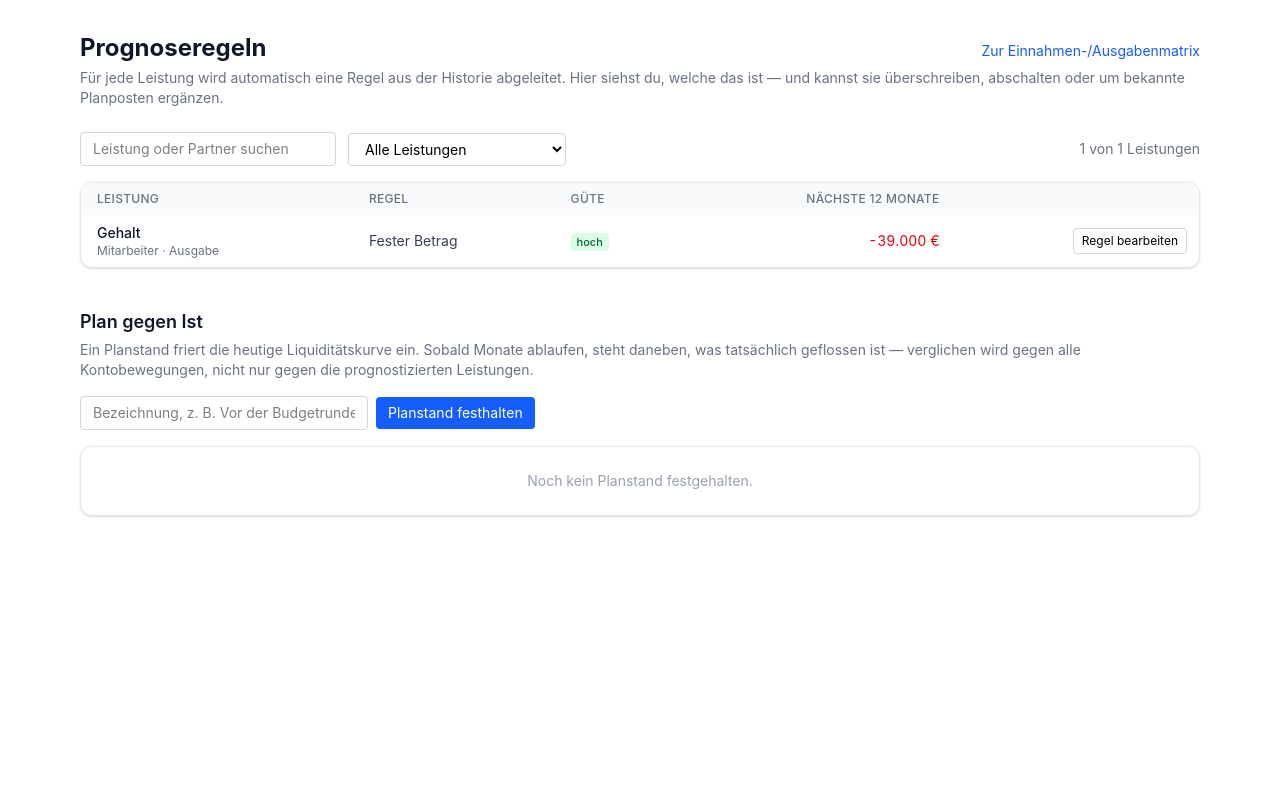
Test: ForecastPage – Rückvergleich im Editor › erklaert eine als beendet erkannte Leistung
The width and height of the screenshot is (1280, 798).
Click the button "Regel bearbeiten". click: coordinates (1130, 241)
box: [1073,228,1187,254]
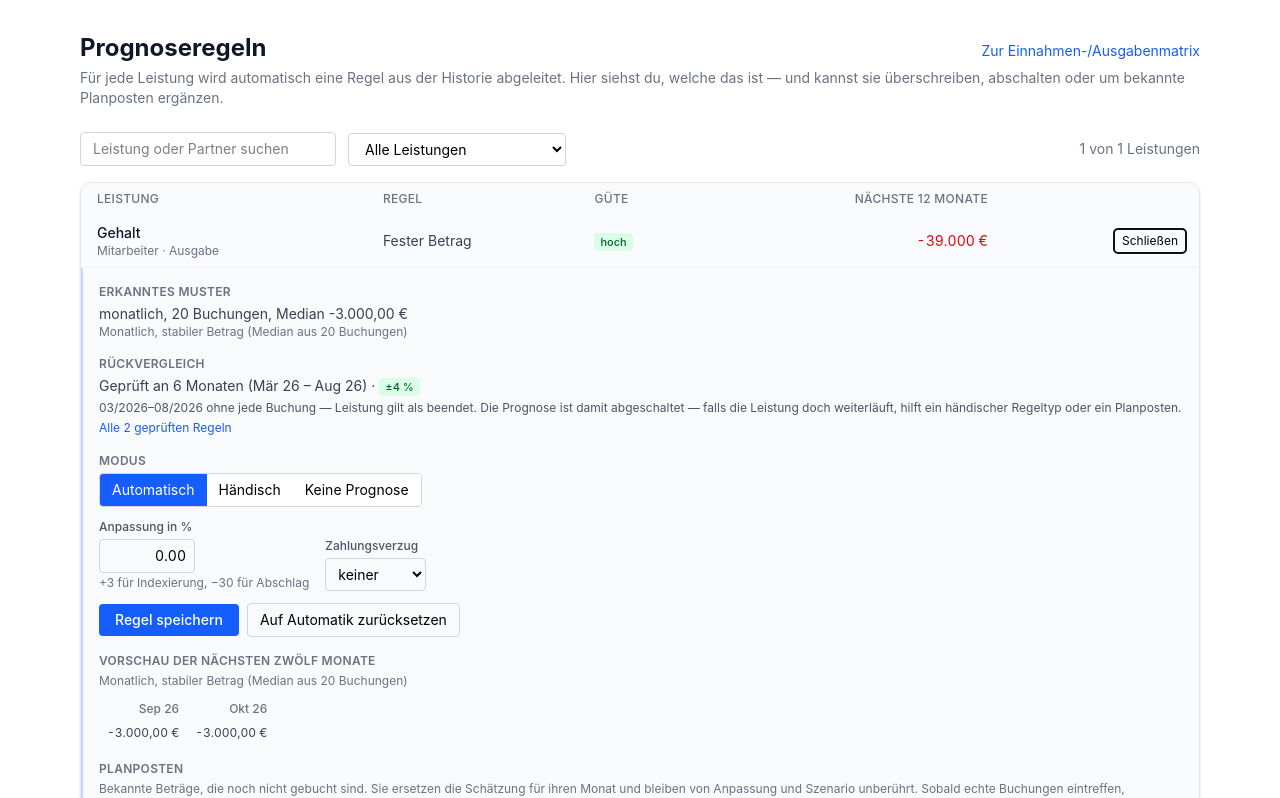
Now the text "Prognose ist damit abgeschaltet" is shown, box [473,400,1182,415]
